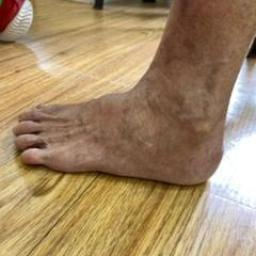Lateral View -Left Foot-: (2, 61, 239, 205)
